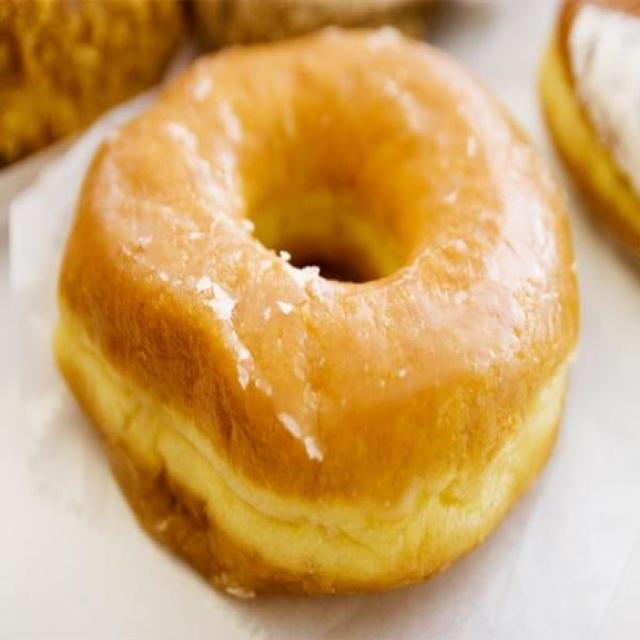炸货点心: (51, 26, 571, 584)
